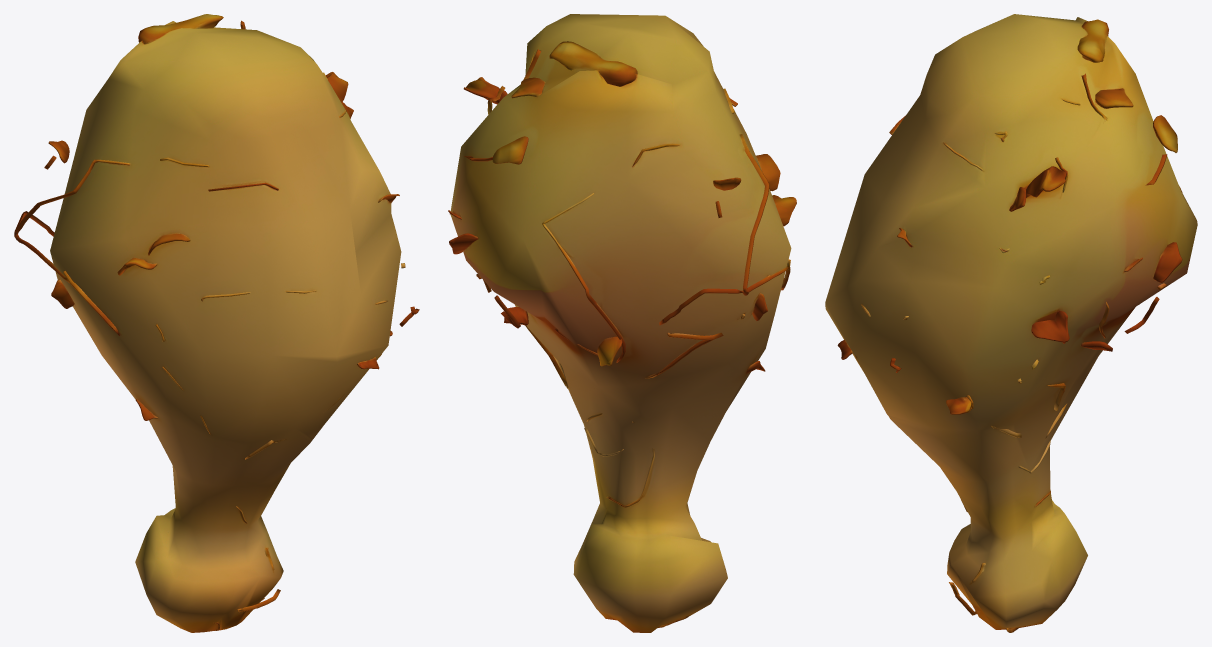
The model's file is drumstick-rot.glb.
3 renders of one model, left to right at view 1: azimuth 30°, elevation 25°; view 2: azimuth 150°, elevation 25°; view 3: azimuth 270°, elevation 25°, orthographic. The views are drawn at different scales.
Visible parts, largest first — view 1: tripo_node_4a8036a4-4700-4fa9-a6fd-78f4db3fa04e; view 2: tripo_node_4a8036a4-4700-4fa9-a6fd-78f4db3fa04e; view 3: tripo_node_4a8036a4-4700-4fa9-a6fd-78f4db3fa04e.
Boxes of the visible parts, <box> form: tripo_node_4a8036a4-4700-4fa9-a6fd-78f4db3fa04e: <box>14,14,419,632</box>; tripo_node_4a8036a4-4700-4fa9-a6fd-78f4db3fa04e: <box>448,14,796,632</box>; tripo_node_4a8036a4-4700-4fa9-a6fd-78f4db3fa04e: <box>825,14,1197,632</box>.
Bounding box in the file's own units: 0.563 × 0.9995 × 0.563.
1 material, 1 textured.
